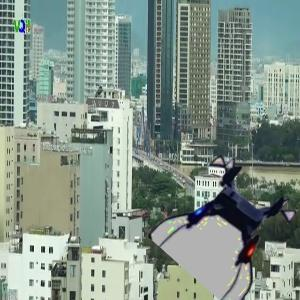drone: (167, 163, 293, 289)
